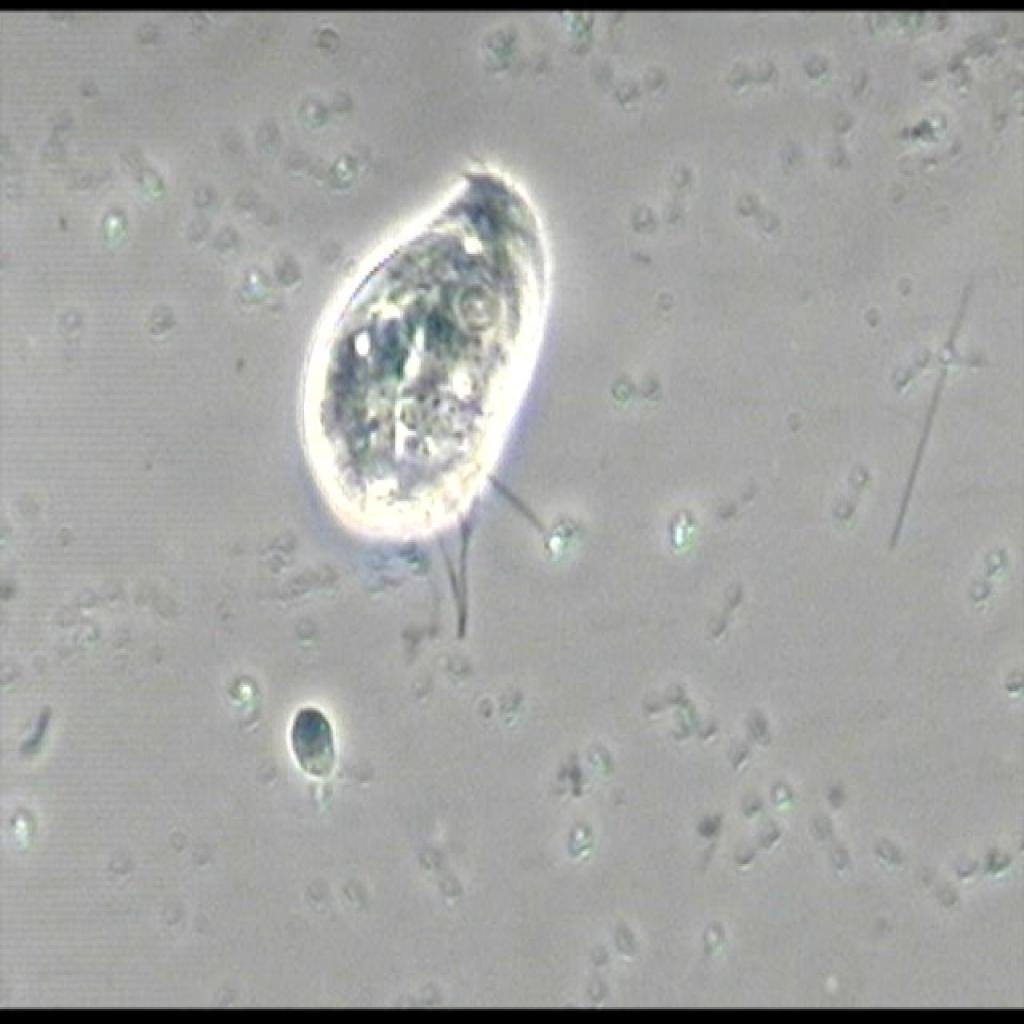Chilodonella: (265, 150, 586, 664)
